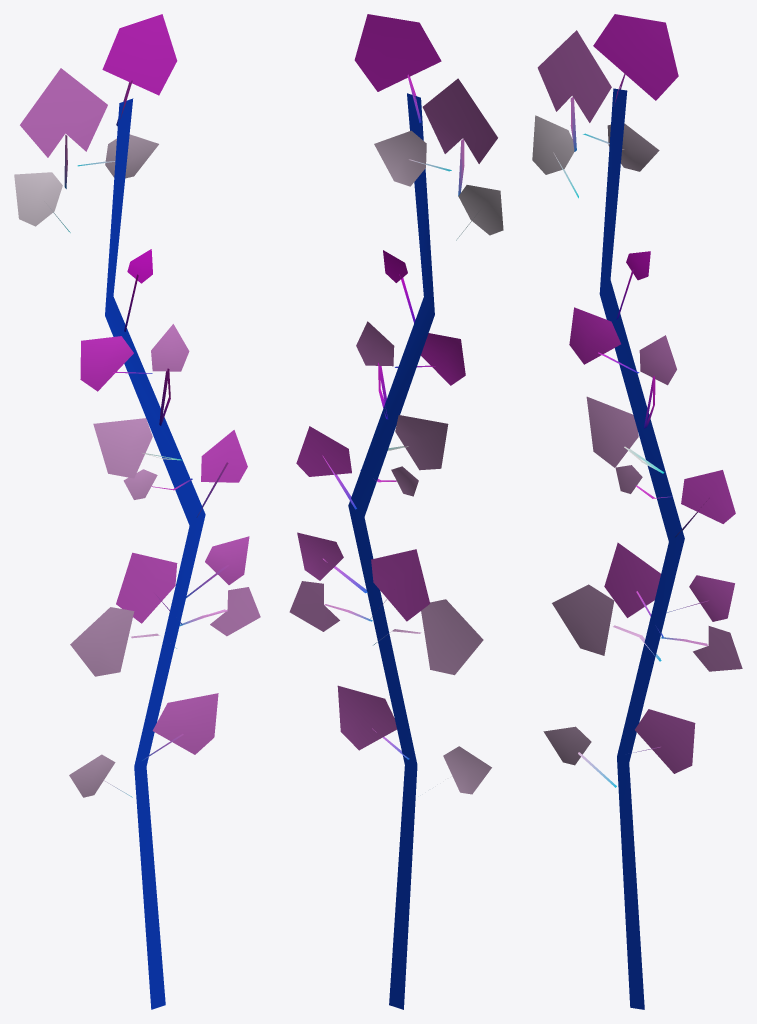
Rendered from English_Ivy_xfcnebhqx_Mid_xfcnebhqx_VarB_LOD2.fbx.
3 renders of one model, left to right at view 1: azimuth 30°, elevation 25°; view 2: azimuth 150°, elevation 25°; view 3: azimuth 330°, elevation 25°, orthographic.
Visible parts, largest first — view 1: _8l3j_VarB_LOD4; view 2: _8l3j_VarB_LOD4; view 3: _8l3j_VarB_LOD4.
Part boxes in pixels (left/top/right/bottom): _8l3j_VarB_LOD4: left=14, top=14, right=260, bottom=1009; _8l3j_VarB_LOD4: left=289, top=14, right=503, bottom=1009; _8l3j_VarB_LOD4: left=532, top=14, right=742, bottom=1009.
Size of the model in its own units: 17.78 by 73.48 by 3.2.
